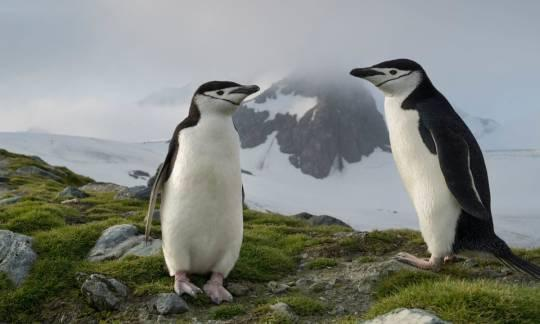chinstrap: (344, 42, 533, 293), (129, 72, 289, 293)
